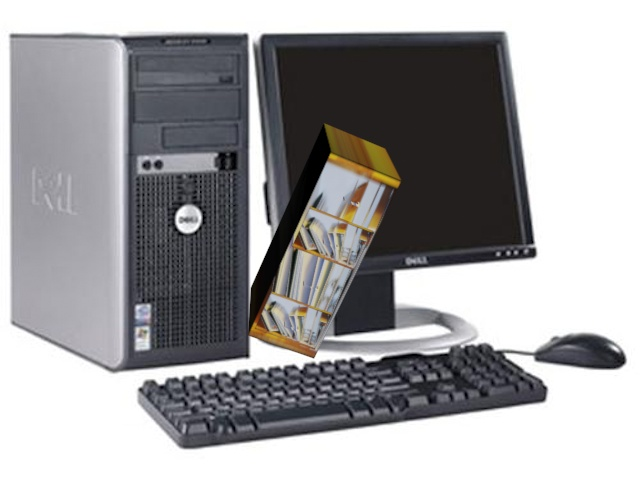file_cabinet: (240, 112, 416, 369)
